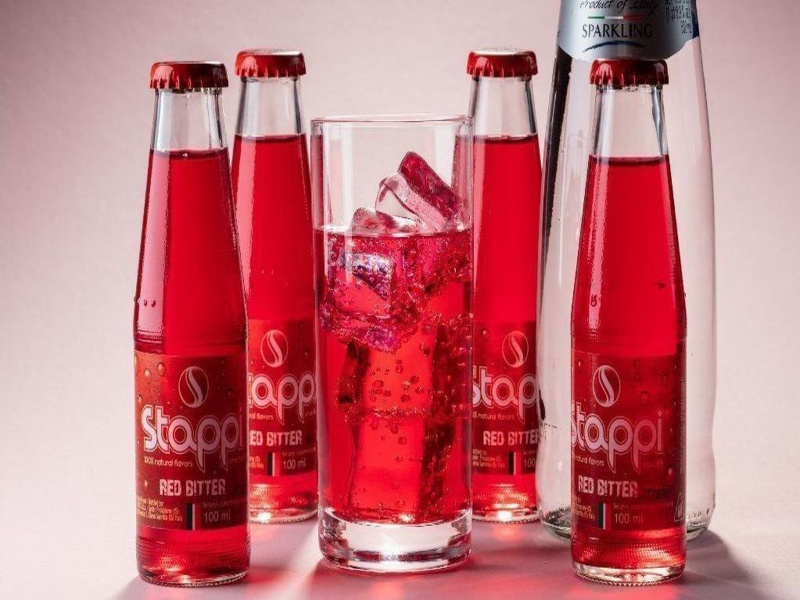Glass bottle: (563, 37, 712, 599), (119, 61, 274, 597), (192, 26, 348, 548), (429, 16, 576, 557)
